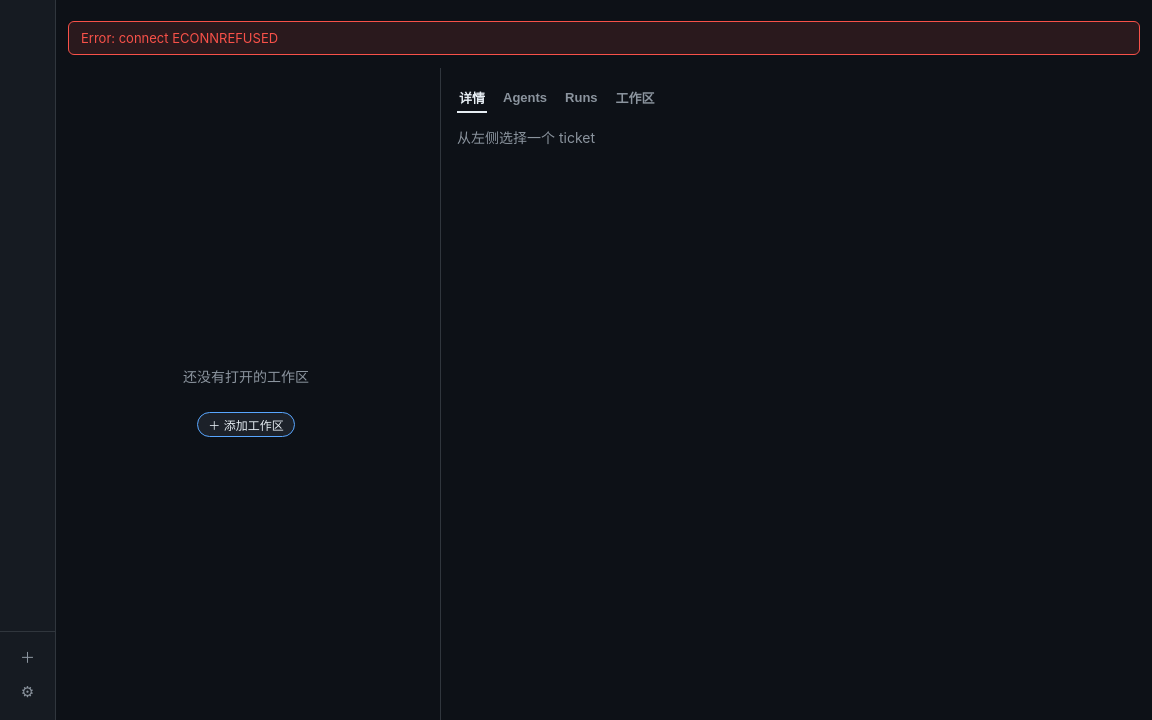
F-TERM-10：首次成功刷新前先添加工作区 › boot daemon 不可达 → 添加 D（declare 成功、homes 恢复）：D 收录且其他已开 home 一并迁移
This screenshot has width=1152, height=720.
Check: the text "Error: connect ECONNREFUSED" is shown, box x1=68 y1=21 x2=1140 y2=55
Click the button titled "添加工作区": [28, 656] box x1=12 y1=640 x2=44 y2=672
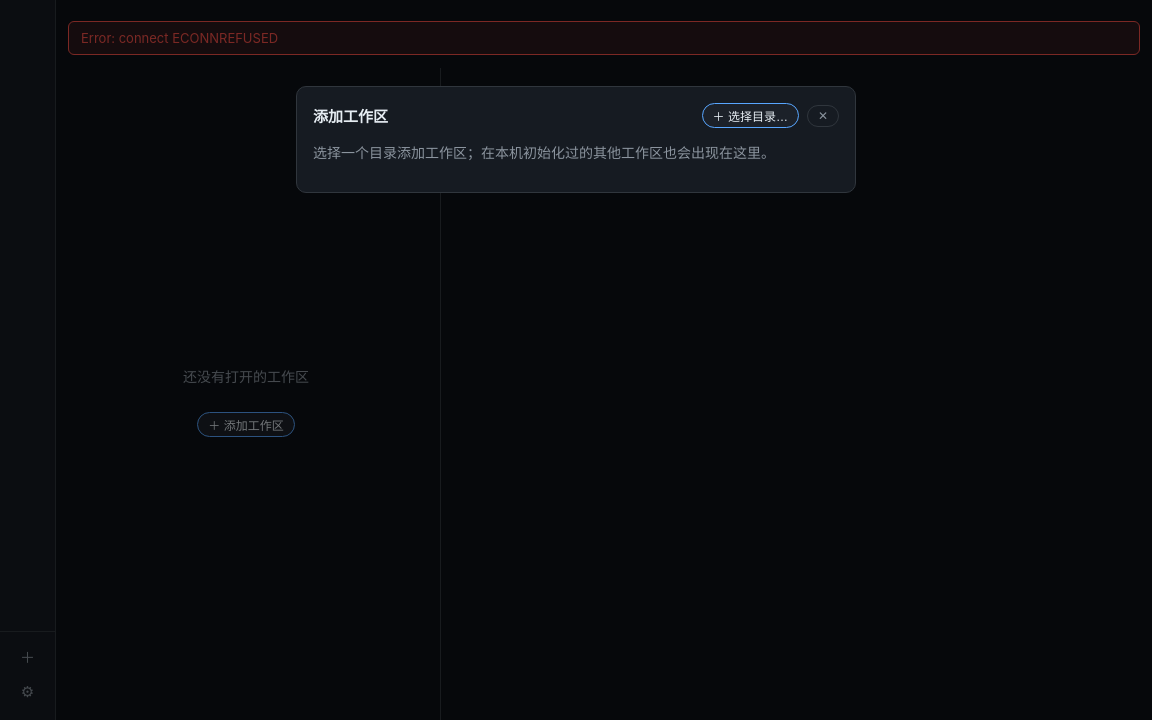
Click the button "＋ 选择目录…": [750, 116] box x1=702 y1=103 x2=799 y2=128
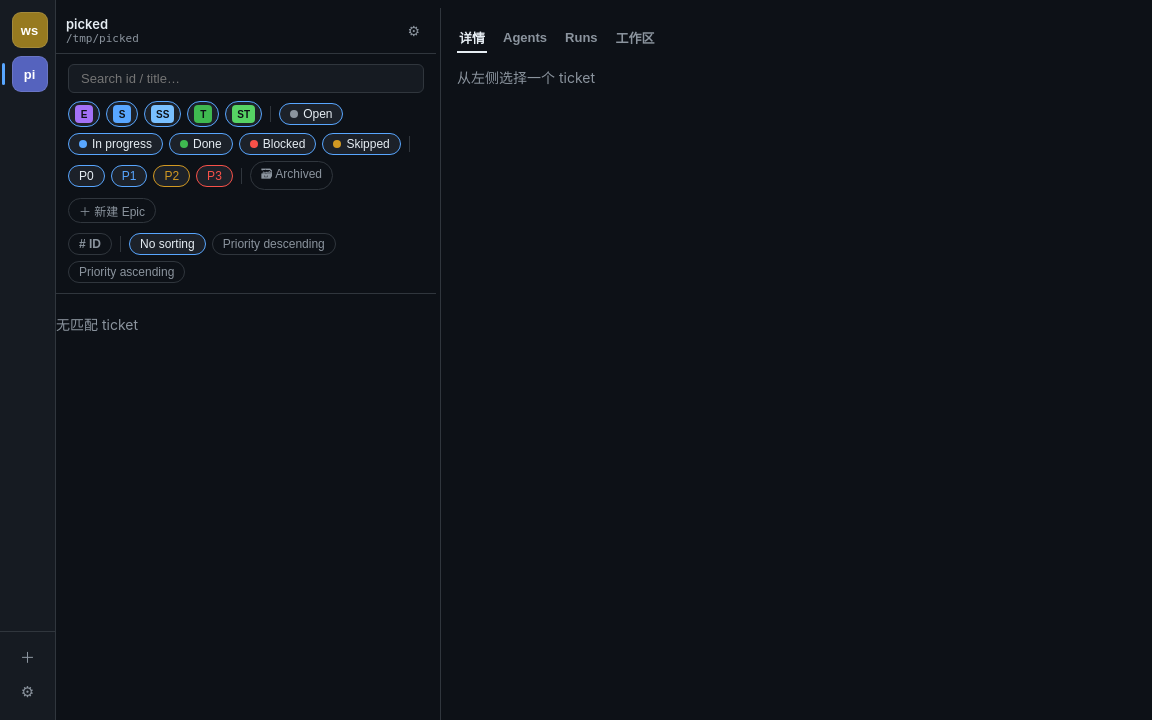
Check: the text with class "workspace-name" reads "picked", box x1=66 y1=16 x2=108 y2=32
